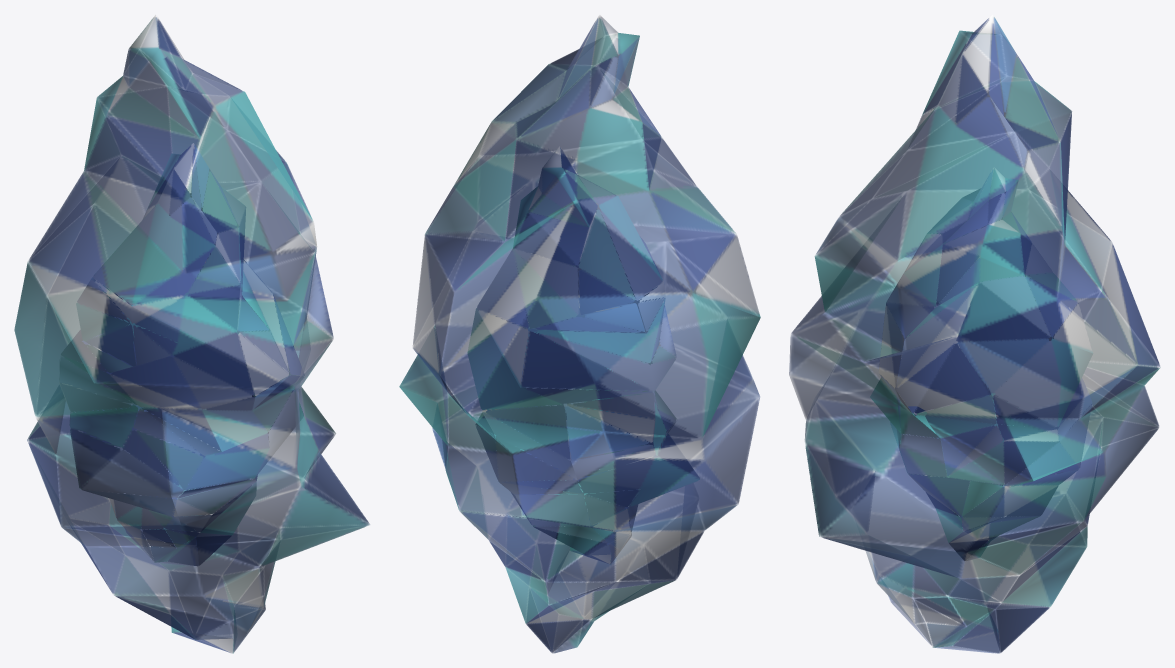
Rendered from diamonds.fbx.
The picture shows the model from 3 angles, left to right: view 1: azimuth 30°, elevation 25°; view 2: azimuth 150°, elevation 25°; view 3: azimuth 270°, elevation 25°; orthographic projection. The views are drawn at different scales.
Parts seen in each view (by area): view 1: diamond_außen, diamond_innen; view 2: diamond_außen, diamond_innen; view 3: diamond_außen, diamond_innen.
Part boxes in pixels (left/top/right/bottom): diamond_außen: left=14, top=15, right=369, bottom=653; diamond_innen: left=59, top=143, right=303, bottom=566; diamond_außen: left=399, top=15, right=760, bottom=653; diamond_innen: left=467, top=146, right=699, bottom=564; diamond_außen: left=789, top=14, right=1160, bottom=653; diamond_innen: left=870, top=168, right=1092, bottom=560.
Bounding box in the file's own units: 155 × 171 × 314.
